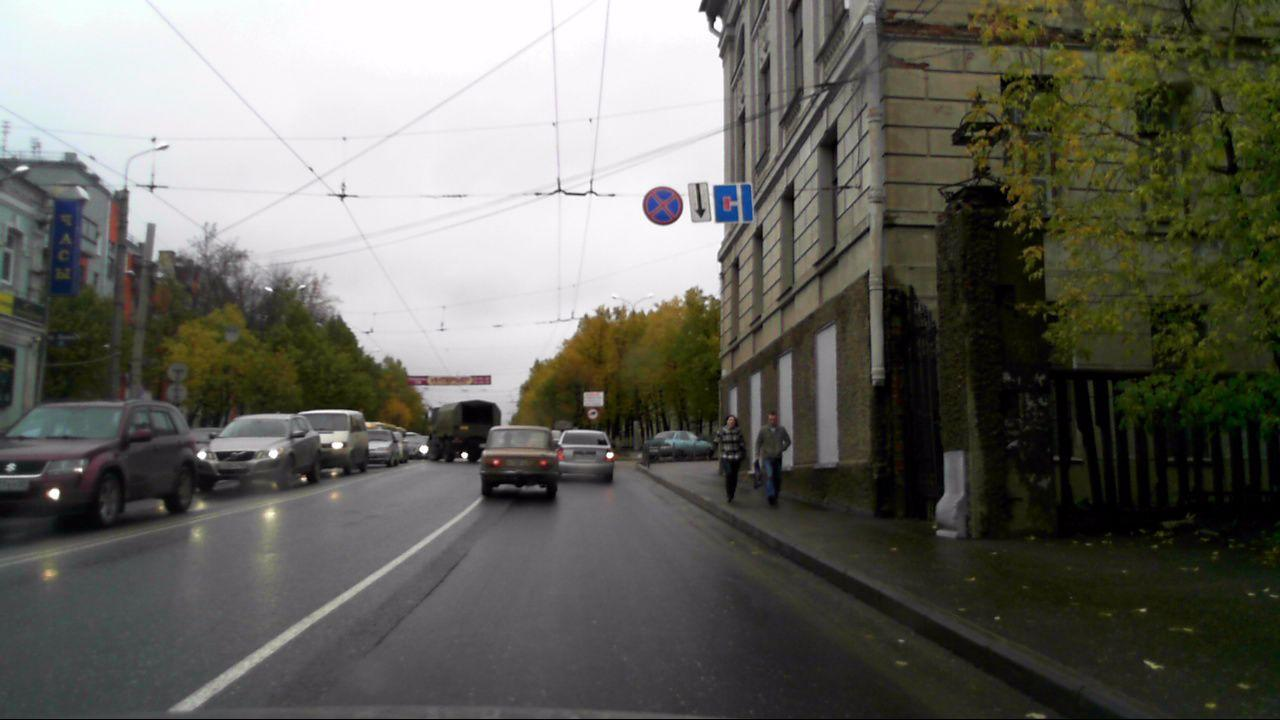3_27: (643, 184, 684, 225)
3_4: (588, 405, 599, 420)
6_8_3: (714, 183, 754, 223)
8_2_3: (687, 181, 712, 223)
